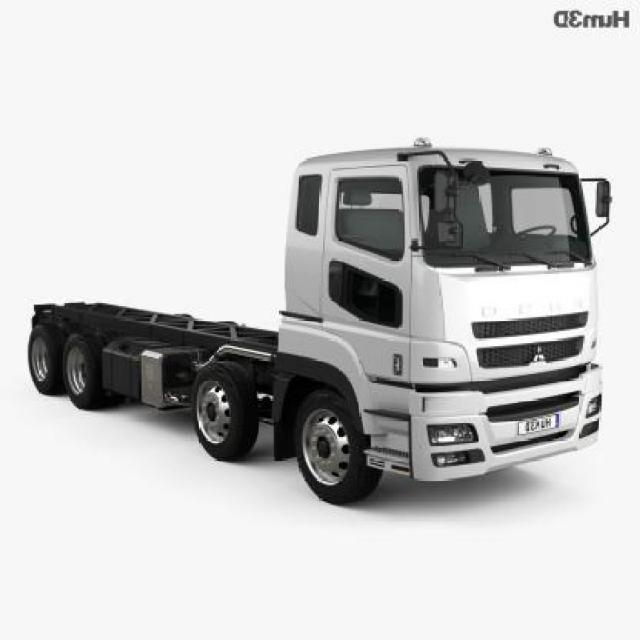truck: (28, 142, 616, 506)
